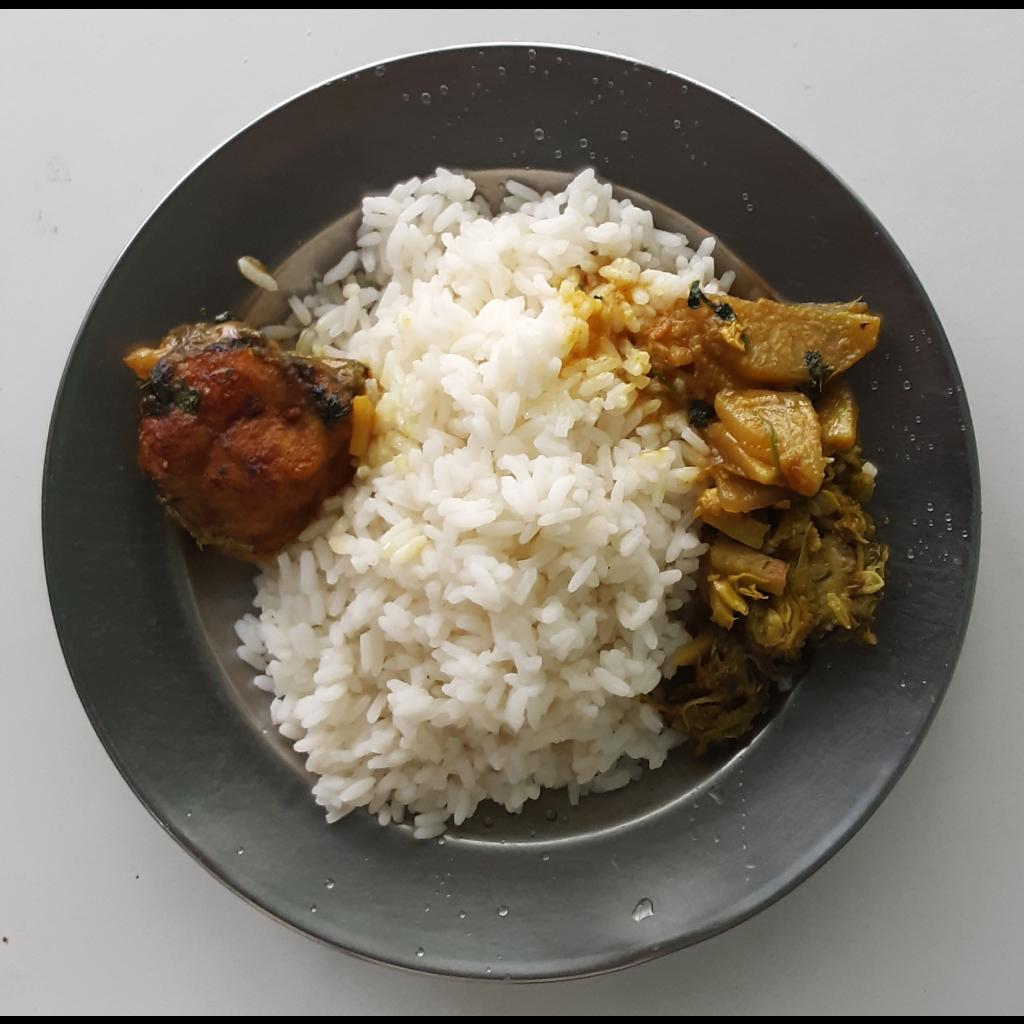fish: (124, 311, 362, 561)
korola-vaji: (667, 455, 890, 752)
potato: (649, 292, 882, 522)
rice: (235, 159, 737, 846)
